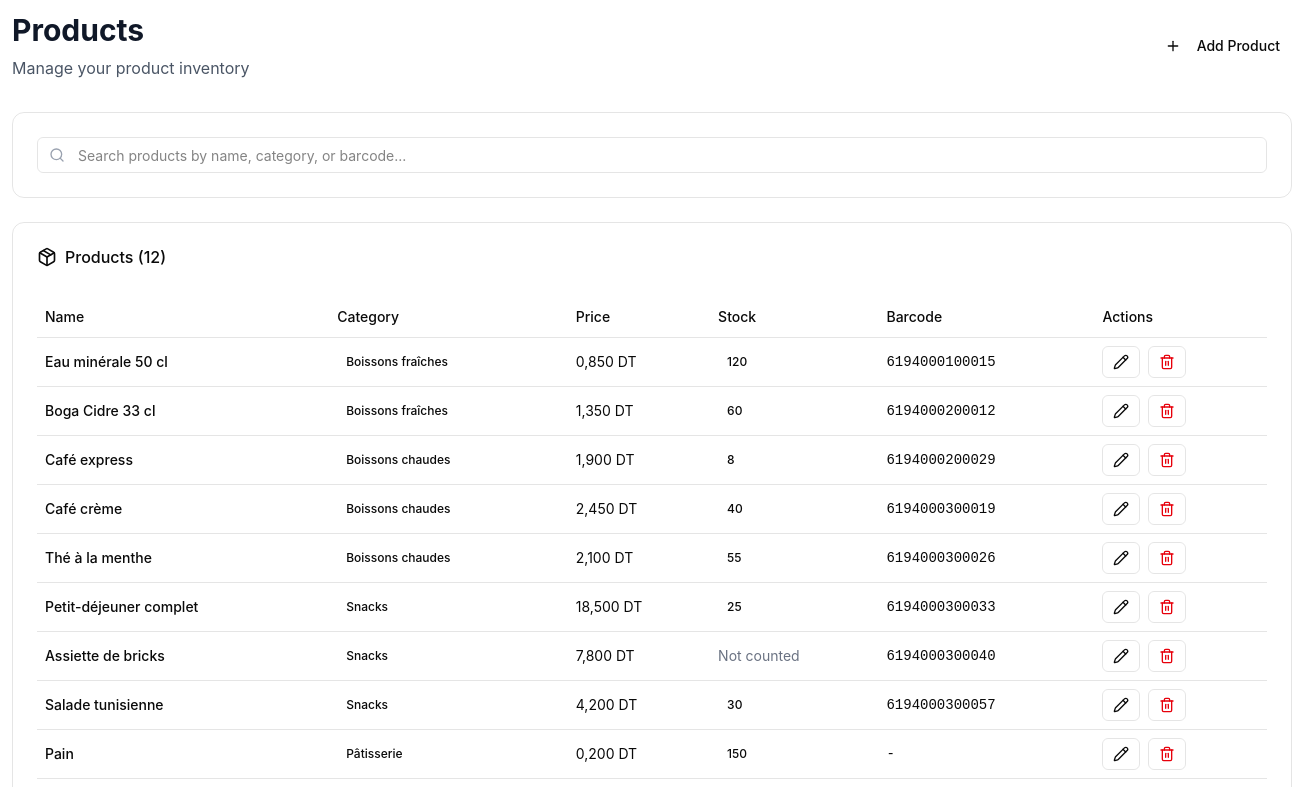
Test case: ProductsPage › searches the list the backend gave it
The image size is (1304, 787).
In the field with placeholder "Search products by name, category, or barcode...": (652, 155) top-left (37, 137), bottom-right (1267, 173), type "citronnade"
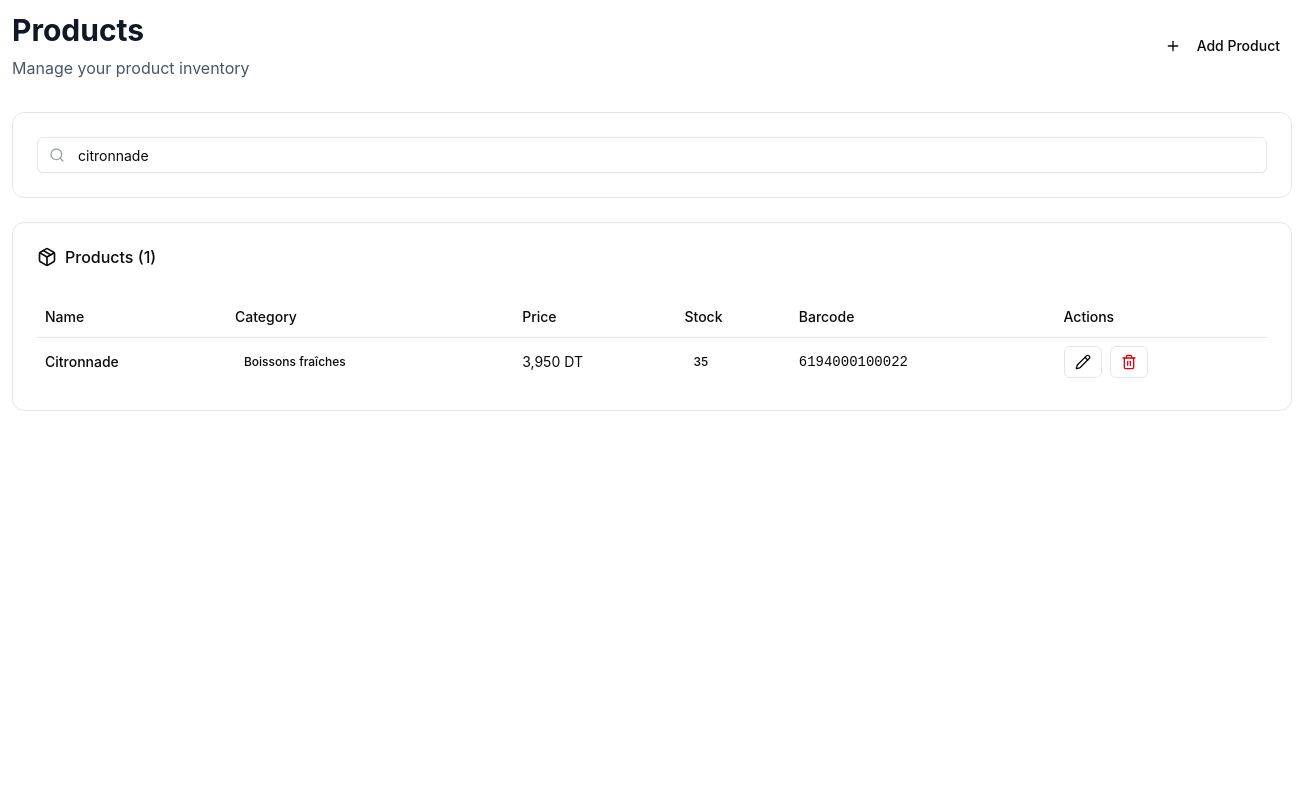
Expected: the text "Citronnade" is shown, top-left (37, 337), bottom-right (227, 386)
Result: the heading "Products (1)" is shown at top-left (37, 247), bottom-right (156, 267)
Result: the text "Eau minérale 50 cl" is gone
